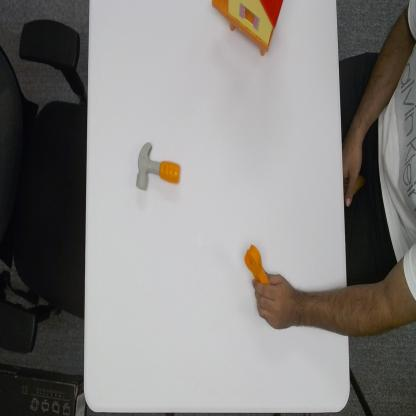Arm: (306, 274, 416, 340)
Hammer: (134, 140, 182, 194)
Hand: (250, 270, 305, 332)
House: (210, 0, 285, 58)
Screwdriver: (243, 242, 271, 286)
